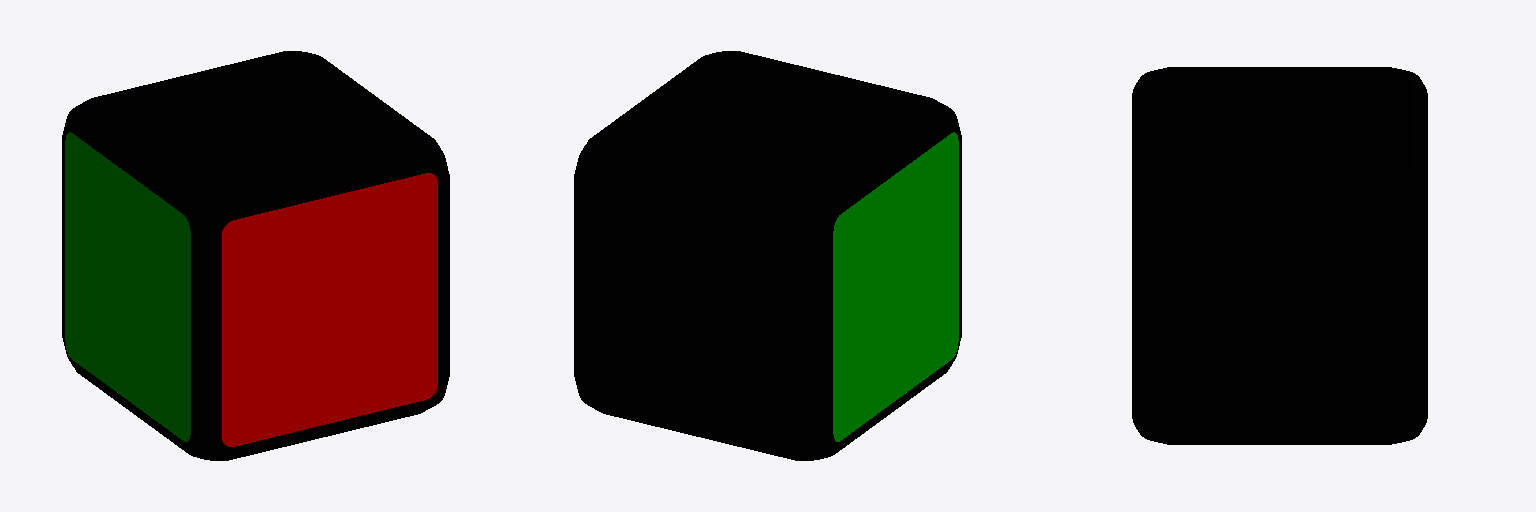
File: corner_rgy.obj
The picture shows the model from 3 angles: view 1: azimuth 30°, elevation 25°; view 2: azimuth 150°, elevation 25°; view 3: azimuth 270°, elevation 25°; orthographic projection.
Visible parts, largest first — view 1: Cube; view 2: Cube; view 3: Cube.
Boxes of the visible parts, <box> form: Cube: <box>62,51,449,460</box>; Cube: <box>574,51,961,460</box>; Cube: <box>1132,67,1427,444</box>.
Bounding box in the file's own units: 2 × 2 × 2.